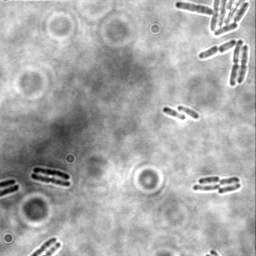Dividing: (198, 38, 237, 60), (229, 39, 244, 87), (31, 172, 71, 187), (27, 237, 58, 256), (32, 166, 71, 181), (237, 44, 250, 84)
Microcolony: (175, 1, 249, 38), (193, 175, 241, 194)
Rod: (162, 106, 187, 121), (177, 105, 200, 121)
